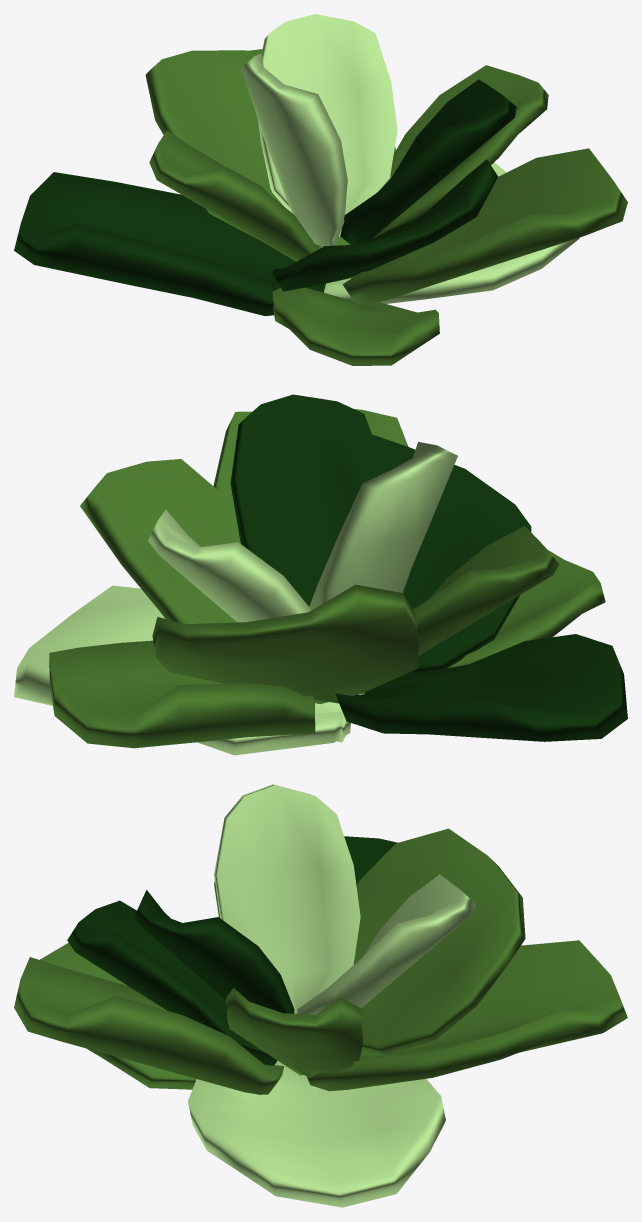
The model's file is kalanchoe africano.glb.
3 renders of one model, top to bottom at view 1: azimuth 30°, elevation 25°; view 2: azimuth 150°, elevation 25°; view 3: azimuth 270°, elevation 25°, orthographic. The views are drawn at different scales.
Visible parts, largest first — view 1: Cube.009, Cube.007, Cube.002, Cube.003, Cube, Cube.001, Cube.010, Cube.005, Cube.004, Cube.006, Cube.011; view 2: Cube.009, Cube.001, Cube.003, Cube.008, Cube.006, Cube, Cube.004, Cube.011, Cube.005, Cube.002, Cube.010, Cube.007; view 3: Cube.011, Cube, Cube.003, Cube.008, Cube.007, Cube.004, Cube.002, Cube.001, Cube.006, Cube.010, Cube.009.
Boxes of the visible parts, bbox=[...] form: Cube.009: bbox=[14, 172, 325, 316]; Cube.007: bbox=[342, 148, 627, 305]; Cube.002: bbox=[258, 14, 397, 238]; Cube.003: bbox=[145, 50, 283, 237]; Cube: bbox=[240, 53, 347, 247]; Cube.001: bbox=[340, 79, 516, 244]; Cube.010: bbox=[272, 287, 439, 365]; Cube.005: bbox=[149, 130, 320, 261]; Cube.004: bbox=[272, 159, 497, 291]; Cube.006: bbox=[372, 65, 548, 238]; Cube.011: bbox=[324, 162, 579, 303]; Cube.009: bbox=[335, 634, 627, 741]; Cube.001: bbox=[230, 394, 385, 606]; Cube.003: bbox=[152, 584, 418, 704]; Cube.008: bbox=[49, 640, 315, 748]; Cube.006: bbox=[80, 459, 240, 624]; Cube: bbox=[309, 442, 457, 610]; Cube.004: bbox=[372, 434, 531, 677]; Cube.011: bbox=[14, 585, 350, 755]; Cube.005: bbox=[413, 526, 559, 655]; Cube.002: bbox=[148, 509, 311, 622]; Cube.010: bbox=[361, 550, 605, 694]; Cube.007: bbox=[213, 409, 408, 505]; Cube.011: bbox=[188, 1060, 445, 1207]; Cube: bbox=[214, 784, 360, 1013]; Cube.003: bbox=[353, 828, 525, 1054]; Cube.008: bbox=[307, 940, 627, 1091]; Cube.007: bbox=[14, 957, 283, 1094]; Cube.004: bbox=[67, 900, 277, 1065]; Cube.002: bbox=[297, 874, 476, 1015]; Cube.001: bbox=[134, 890, 294, 1013]; Cube.006: bbox=[226, 988, 362, 1077]; Cube.010: bbox=[40, 942, 196, 1089]; Cube.009: bbox=[344, 836, 397, 885].
Size of the model in its own units: 5.91 by 2.84 by 5.85.
